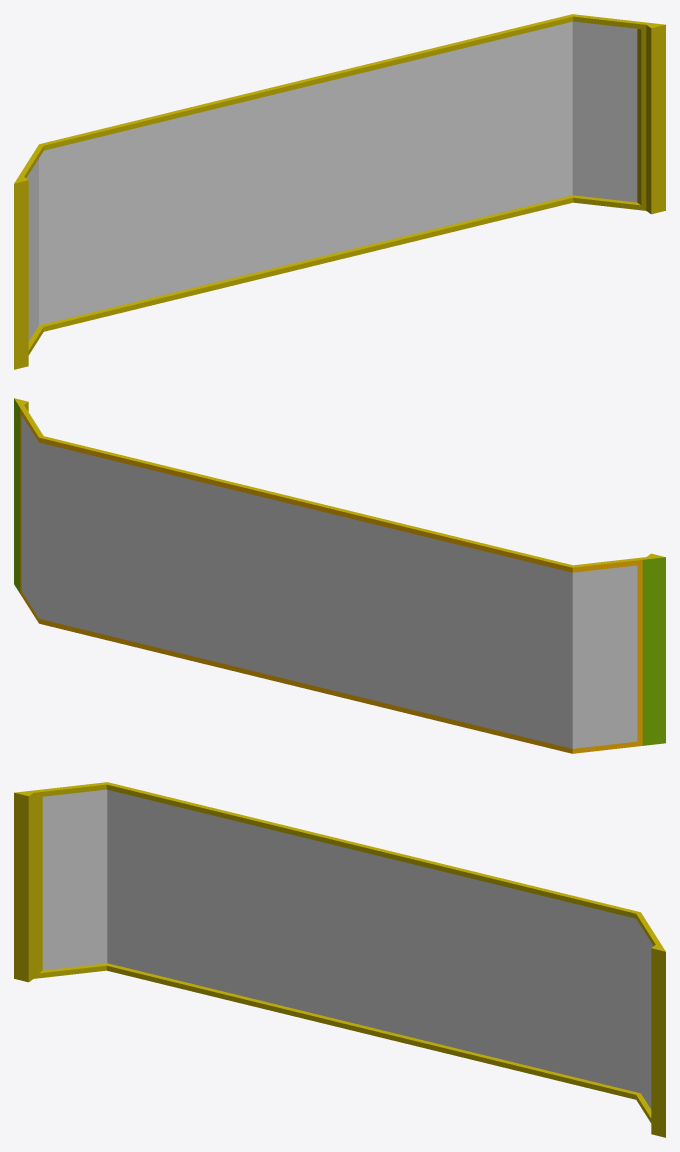
File: window_panoramic_11x1x3.dae
3 views of the same model, one above another, from view 1: azimuth 30°, elevation 25°; view 2: azimuth 150°, elevation 25°; view 3: azimuth 330°, elevation 25° (orthographic).
Visible parts, largest first — view 1: Cube; view 2: Cube; view 3: Cube.
Boxes of the visible parts, bbox=[...] form: Cube: bbox=[14, 14, 665, 369]; Cube: bbox=[14, 398, 665, 753]; Cube: bbox=[14, 782, 665, 1137].
Bounding box in the file's own units: 2.75 × 0.25 × 0.75.
